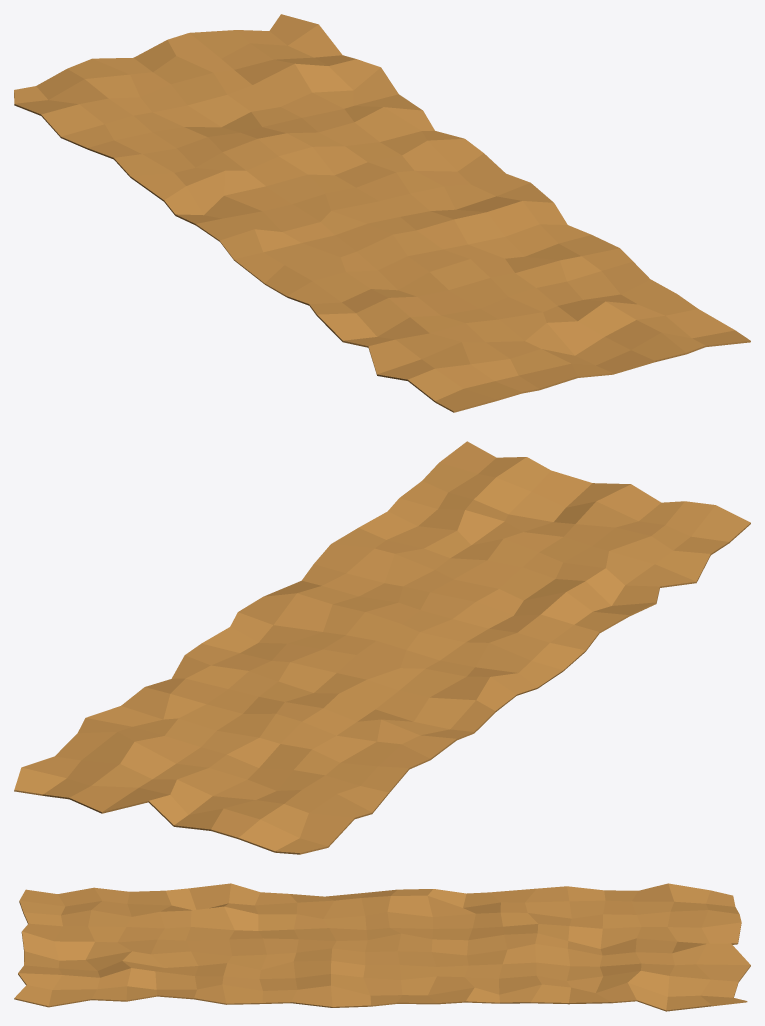
File: Sand.fbx
3 views of the same model, one above another, from view 1: azimuth 30°, elevation 25°; view 2: azimuth 150°, elevation 25°; view 3: azimuth 270°, elevation 25° (orthographic). The views are drawn at different scales.
Parts seen in each view (by area): view 1: Plane; view 2: Plane; view 3: Plane.
Part boxes in pixels (x1,y1,x2,y2): Plane: (14, 14, 750, 412); Plane: (14, 441, 750, 854); Plane: (14, 883, 750, 1011).
Bounding box in the file's own units: 213 × 14.93 × 555.
